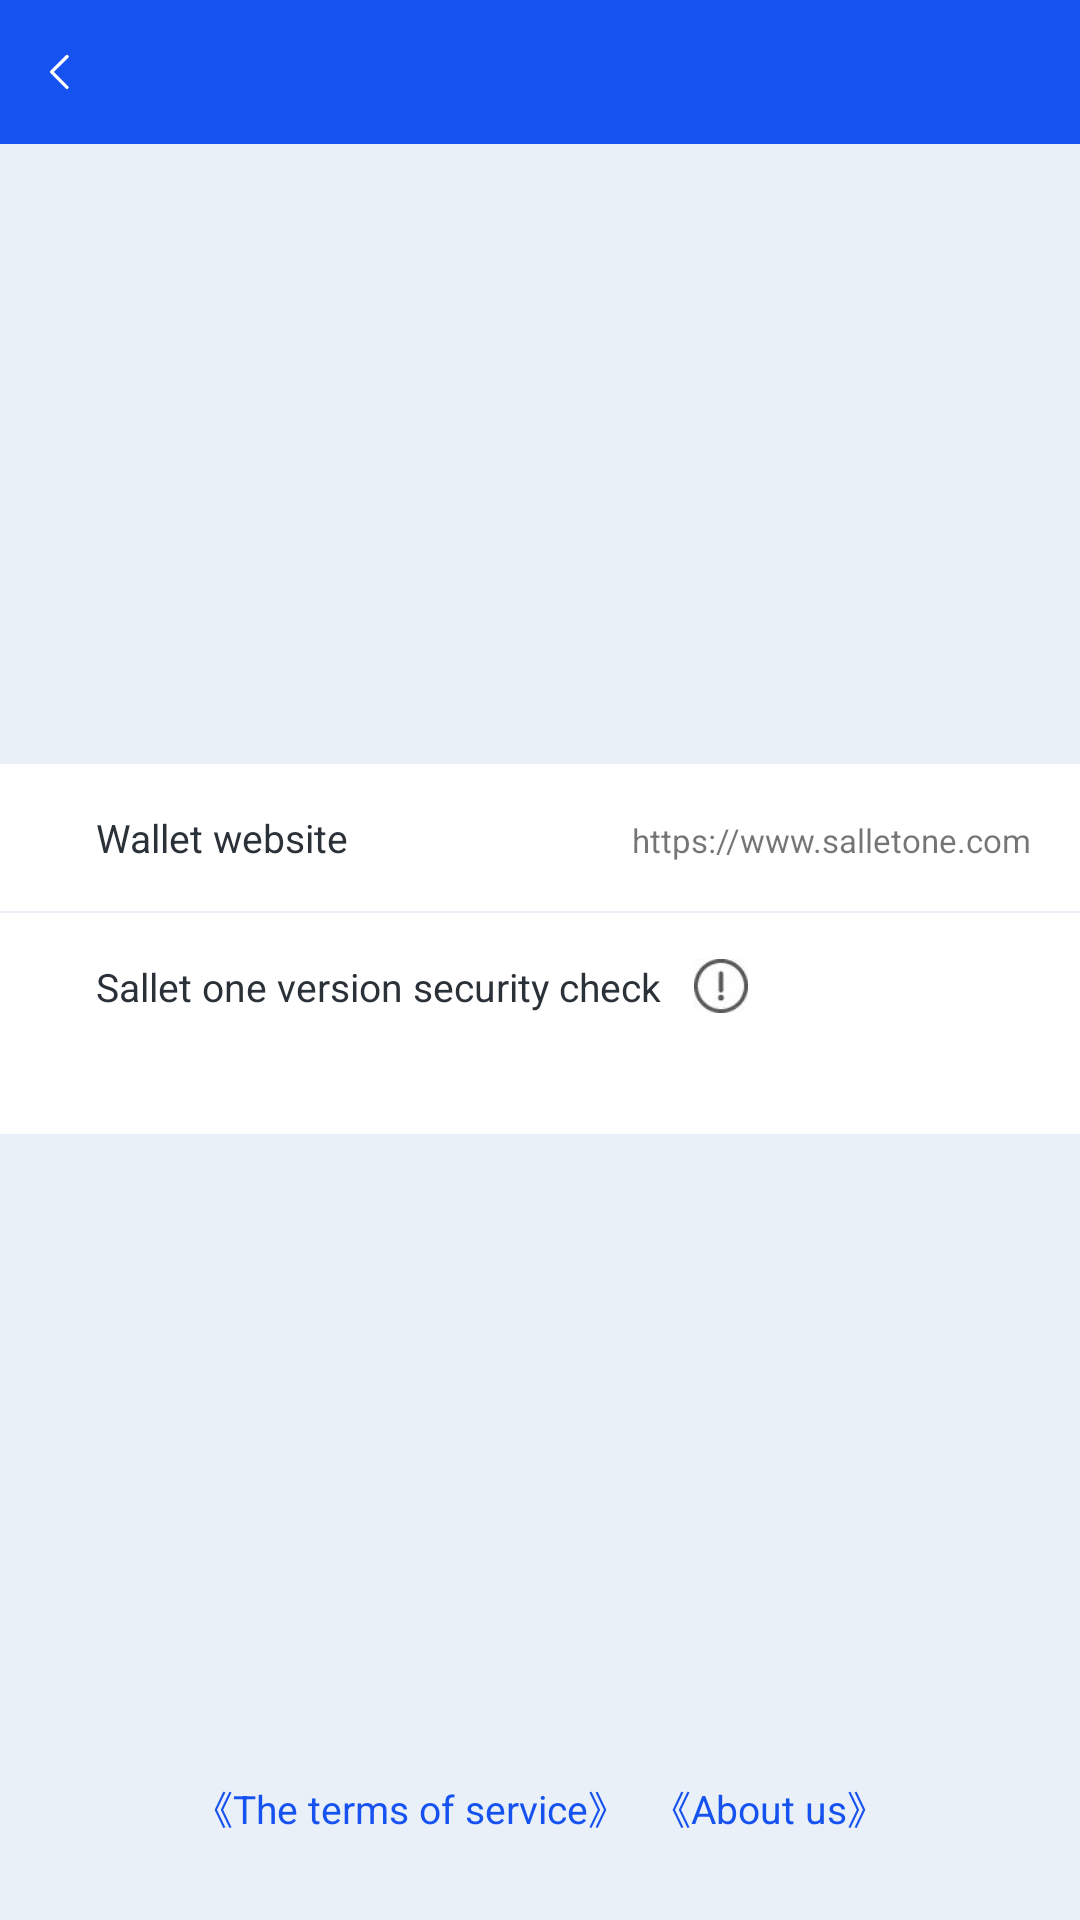

Named icons in this screenshot (1080 × 1920) and their bounding boxes, (x1, y1, x2, y2):
back: (50, 54, 69, 89)
